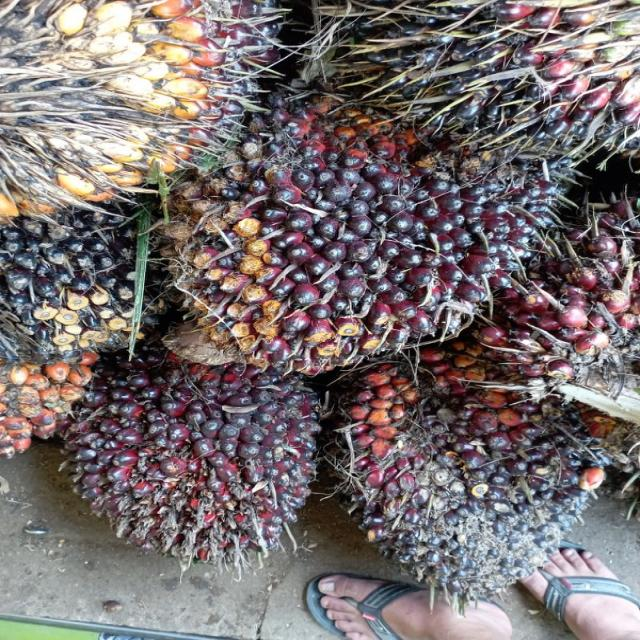fraksi 00: (0, 195, 166, 361)
fraksi 1: (170, 100, 540, 368), (62, 336, 322, 568), (338, 363, 600, 586)
